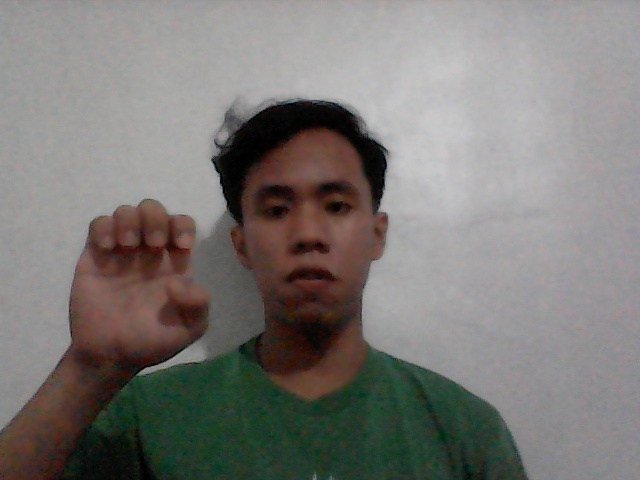E: (46, 180, 223, 403)
